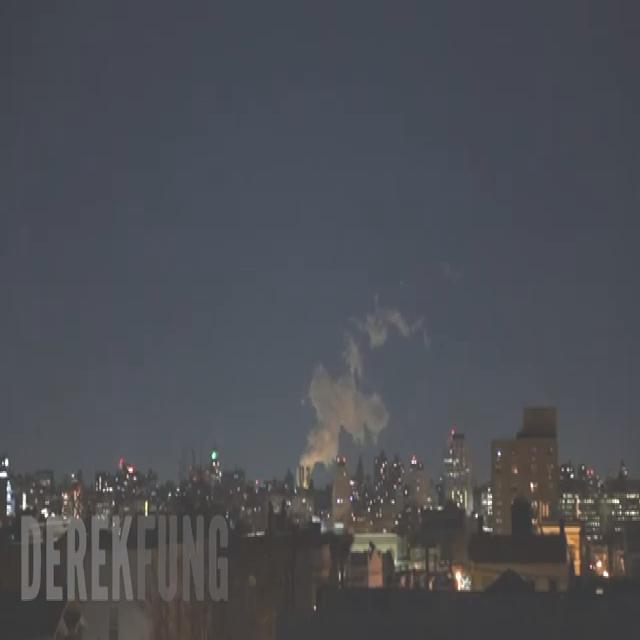smoke: (301, 331, 387, 466)
